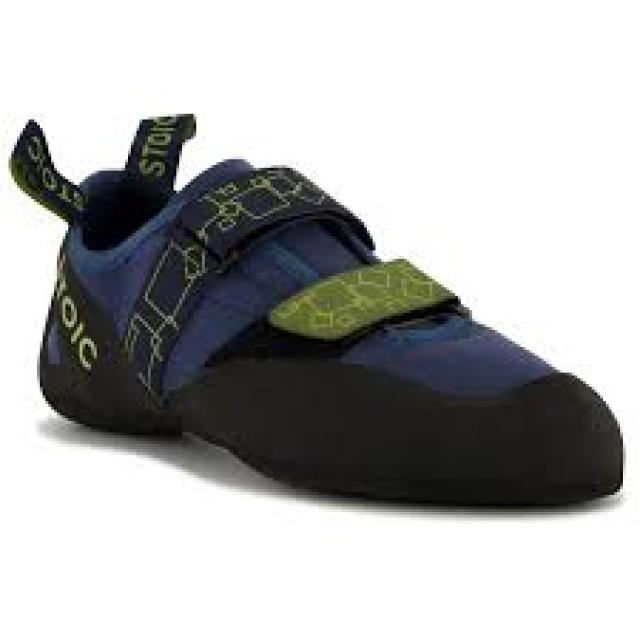climbing-shoes: (10, 114, 625, 512)
